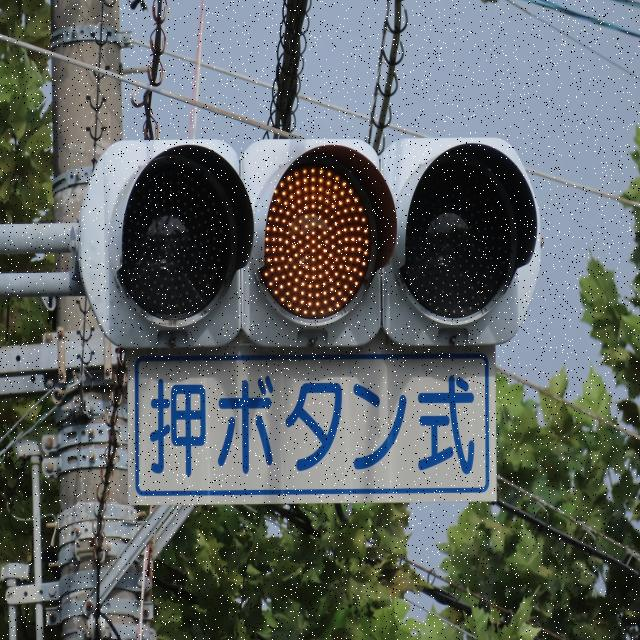Yellow-traffic-light: (264, 162, 386, 327)
